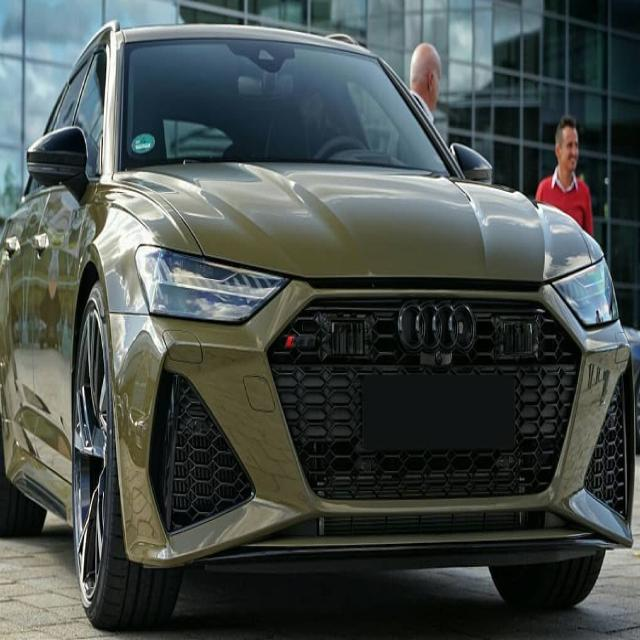green: (2, 21, 634, 634)
